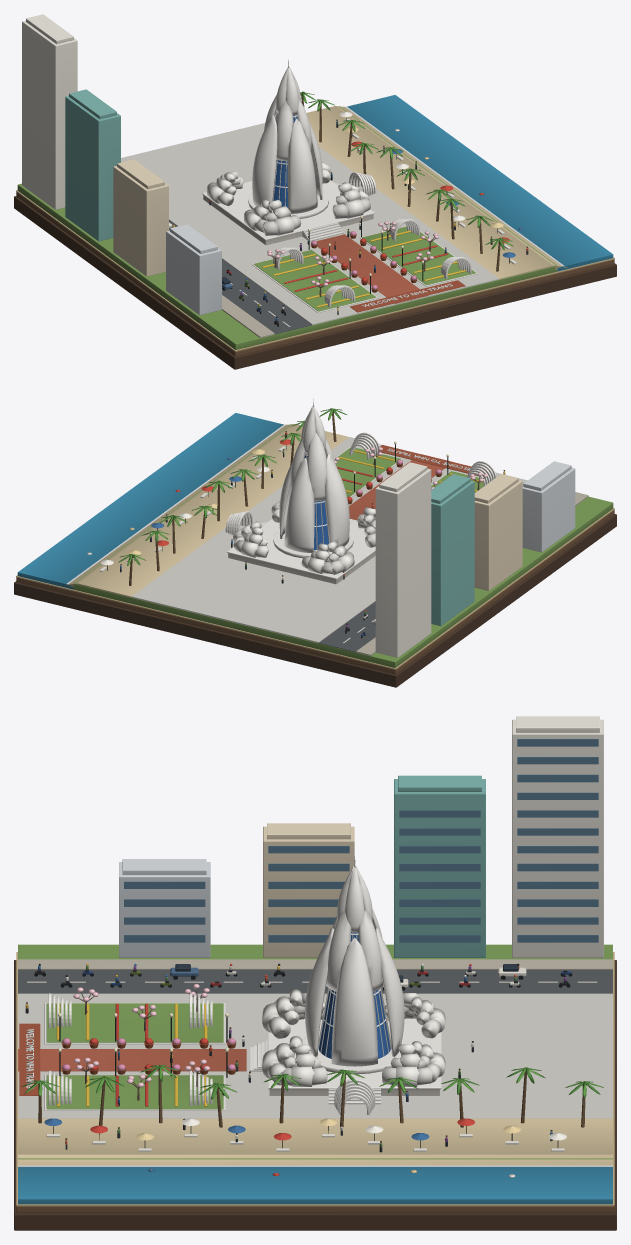
Rendered from thap-tram-huong.glb.
3 renders of one model, top to bottom at view 1: azimuth 30°, elevation 25°; view 2: azimuth 150°, elevation 25°; view 3: azimuth 270°, elevation 25°, orthographic. The views are drawn at different scales.
Parts seen in each view (by area): view 1: TH_bike_body; view 2: TH_bike_body; view 3: TH_bike_body.
Part boxes in pixels (x1,y1,x2,y2): TH_bike_body: (14, 14, 616, 369); TH_bike_body: (14, 398, 616, 687); TH_bike_body: (14, 716, 616, 1230).
Size of the model in its own units: 92 by 44.4 by 92.
2 materials, 2 textured.
